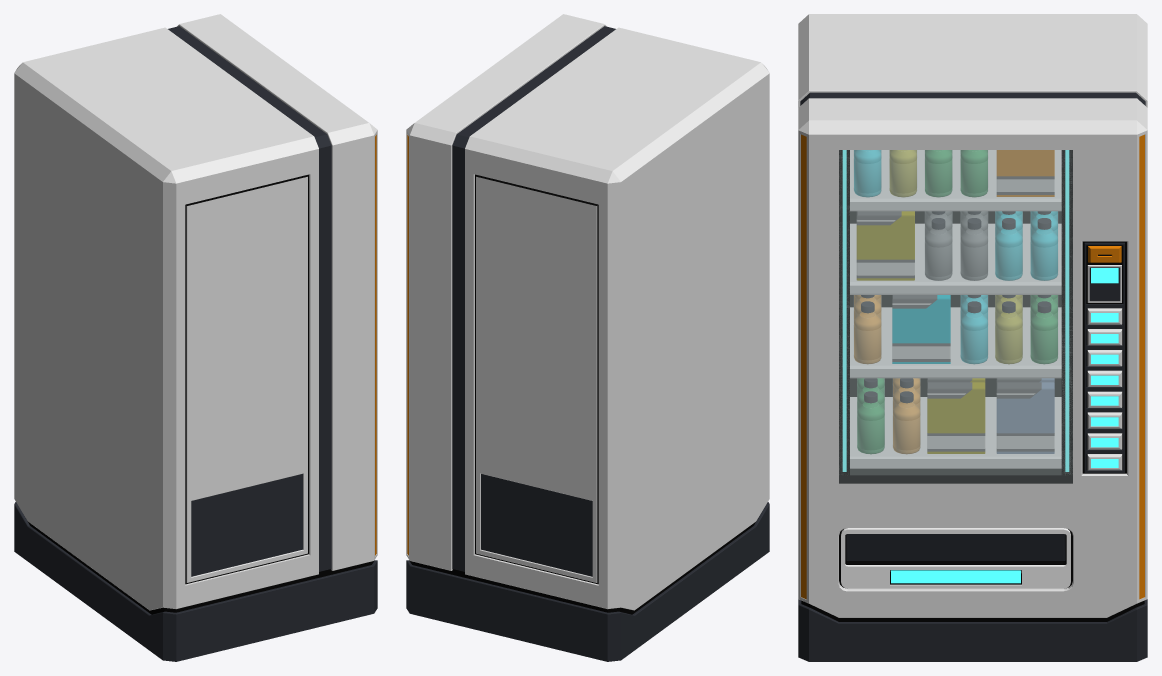
Rendered from vending_machine.glb.
3 views of the same model, side by side, from view 1: azimuth 30°, elevation 25°; view 2: azimuth 150°, elevation 25°; view 3: azimuth 270°, elevation 25° (orthographic). The views are drawn at different scales.
Parts seen in each view (by area): view 1: SM_Vending_Machine; view 2: SM_Vending_Machine; view 3: SM_Vending_Machine.
Part boxes in pixels (x1,y1,x2,y2): SM_Vending_Machine: [14, 14, 377, 661]; SM_Vending_Machine: [406, 14, 769, 661]; SM_Vending_Machine: [798, 14, 1147, 661].
Bounding box in the file's own units: 0.9066 × 1.95 × 1.15.
